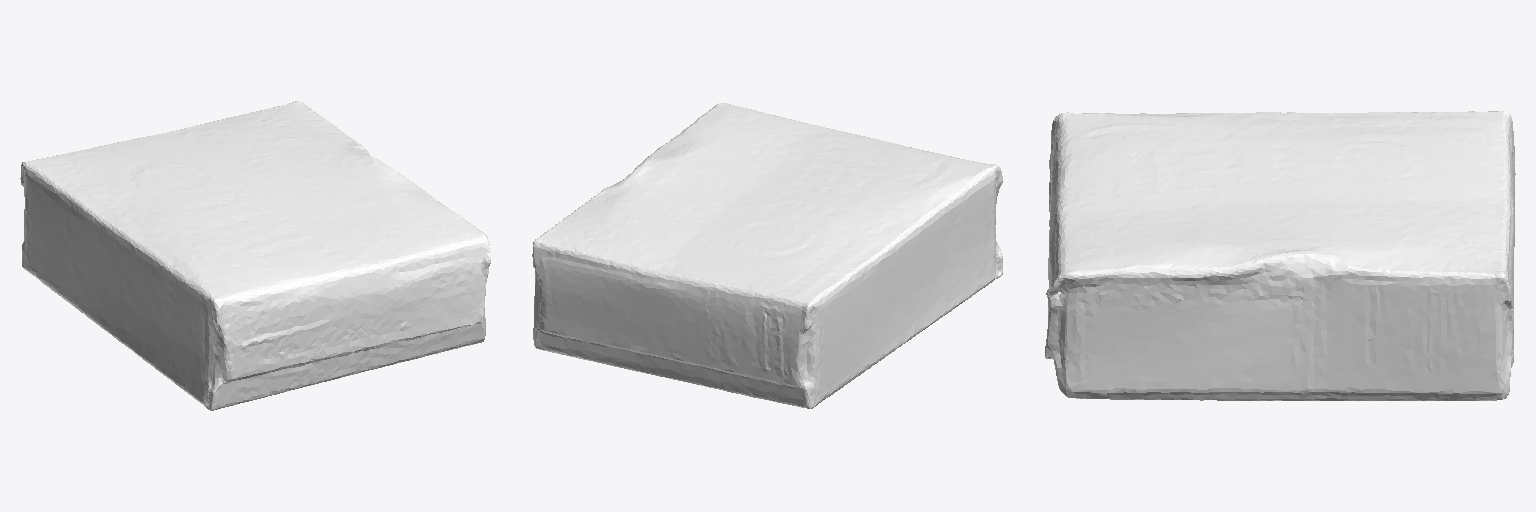
robot.urdf — gelatin_box:
<robot name="gelatin_box">
    <link name="base_link">
        <visual>
            <origin xyz="0.0 0.0 0.0" rpy="0.0 0.0 0.0" />
            <geometry>
                <mesh filename="gelatin_box/textured.obj" scale="1 1 1" />
            </geometry>
            <material name="texture">
                <color rgba="1.0 1.0 1.0 1.0" />
            </material>
        </visual>
        <collision>
            <origin xyz="0.0 0.0 0.0" rpy="0.0 0.0 0.0" />
            <geometry>
                <mesh filename="gelatin_box/textured_coacd_0.stl" scale="1 1 1" />
            </geometry>
        </collision>
        <collision>
            <origin xyz="0.0 0.0 0.0" rpy="0.0 0.0 0.0" />
            <geometry>
                <mesh filename="gelatin_box/textured_coacd_1.stl" scale="1 1 1" />
            </geometry>
        </collision>
        <collision>
            <origin xyz="0.0 0.0 0.0" rpy="0.0 0.0 0.0" />
            <geometry>
                <mesh filename="gelatin_box/textured_coacd_2.stl" scale="1 1 1" />
            </geometry>
        </collision>
        <inertial>
            <mass value="0.097" />
            <inertia ixx="1e-3" ixy="0.0" ixz="0.0" iyy="1e-3" iyz="0.0" izz="1e-3" />
        </inertial>
    </link>
</robot>

--- Facts derived from the render (not from the file) ---
The picture shows the robot from 3 angles, left to right: view 1: azimuth 30°, elevation 25°; view 2: azimuth 150°, elevation 25°; view 3: azimuth 270°, elevation 25°; orthographic projection.
Robot: gelatin_box — 1 links, 0 joints (none); root link base_link; default pose: every joint at zero.
Visible links, largest first — view 1: base_link; view 2: base_link; view 3: base_link.
Boxes of the visible links, x1,y1,x2,y2 form: base_link: (20,101,490,410); base_link: (532,103,1002,408); base_link: (1045,111,1515,400).
Bounding box of the posed robot: 0.0727 × 0.0894 × 0.0298 m (x, y, z).
Meshes: 1 distinct files referenced, 1 mesh visuals loaded (1 OBJ).